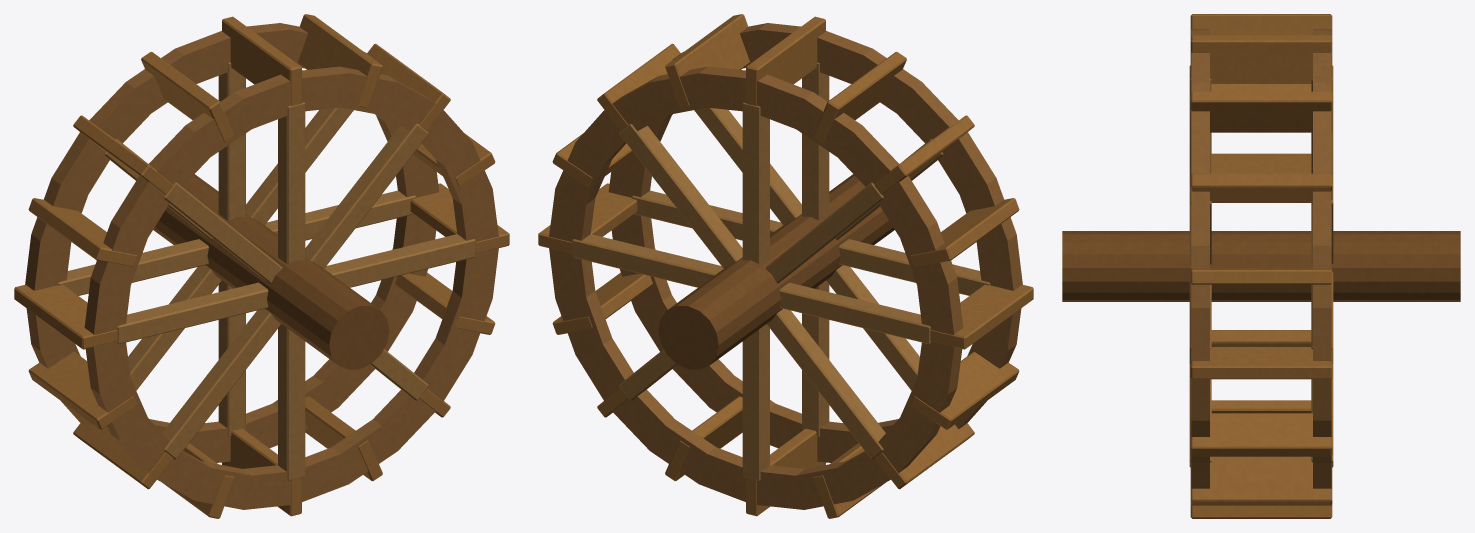
File: SM_MolinoAgua_Rueda_LOD0.fbx
The picture shows the model from 3 angles, left to right: view 1: azimuth 30°, elevation 25°; view 2: azimuth 150°, elevation 25°; view 3: azimuth 270°, elevation 25°; orthographic projection. The views are drawn at different scales.
Visible parts, largest first — view 1: SM_MolinoAgua_Rueda_LOD0; view 2: SM_MolinoAgua_Rueda_LOD0; view 3: SM_MolinoAgua_Rueda_LOD0.
Part boxes in pixels (<box>): SM_MolinoAgua_Rueda_LOD0: <box>14,14,509,518</box>; SM_MolinoAgua_Rueda_LOD0: <box>538,14,1033,518</box>; SM_MolinoAgua_Rueda_LOD0: <box>1062,14,1460,518</box>.
Bounding box in the file's own units: 0.482 × 0.482 × 0.38.
1 material, 1 textured.
